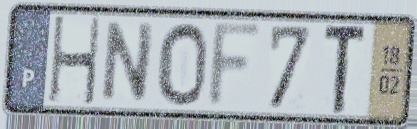7: (266, 21, 315, 113)
F: (203, 20, 267, 112)
H: (47, 14, 103, 109)
N: (98, 19, 158, 105)
O: (156, 20, 209, 109)
T: (321, 22, 370, 118)
